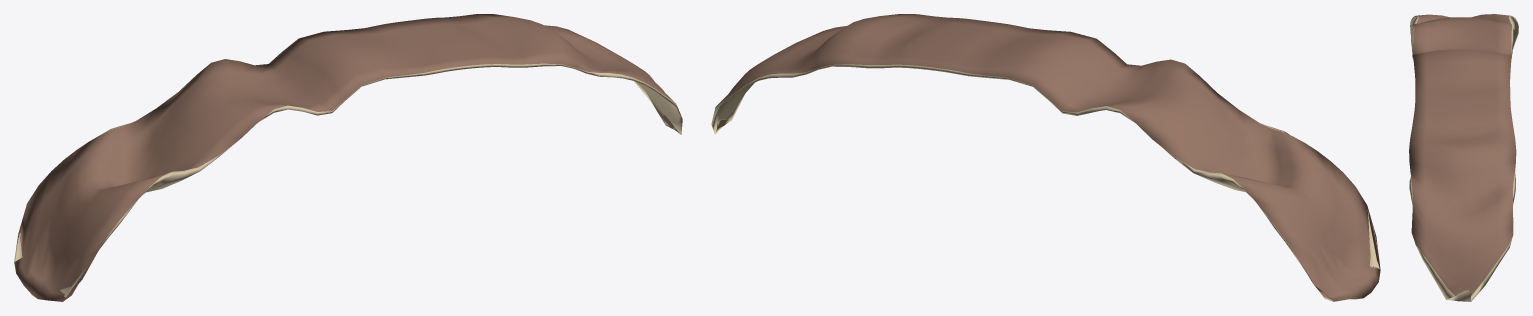
The model's file is cascaraPapa.001.fbx.
3 views of the same model, side by side, from view 1: azimuth 30°, elevation 25°; view 2: azimuth 150°, elevation 25°; view 3: azimuth 270°, elevation 25° (orthographic). The views are drawn at different scales.
Parts seen in each view (by area): view 1: cascaraPapa.001; view 2: cascaraPapa.001; view 3: cascaraPapa.001.
Boxes of the visible parts, box(x1,y1,x2,y2) form: cascaraPapa.001: box(14, 14, 682, 301); cascaraPapa.001: box(711, 14, 1380, 301); cascaraPapa.001: box(1409, 14, 1518, 301).
Bounding box in the file's own units: 248 × 63.36 × 47.3.
